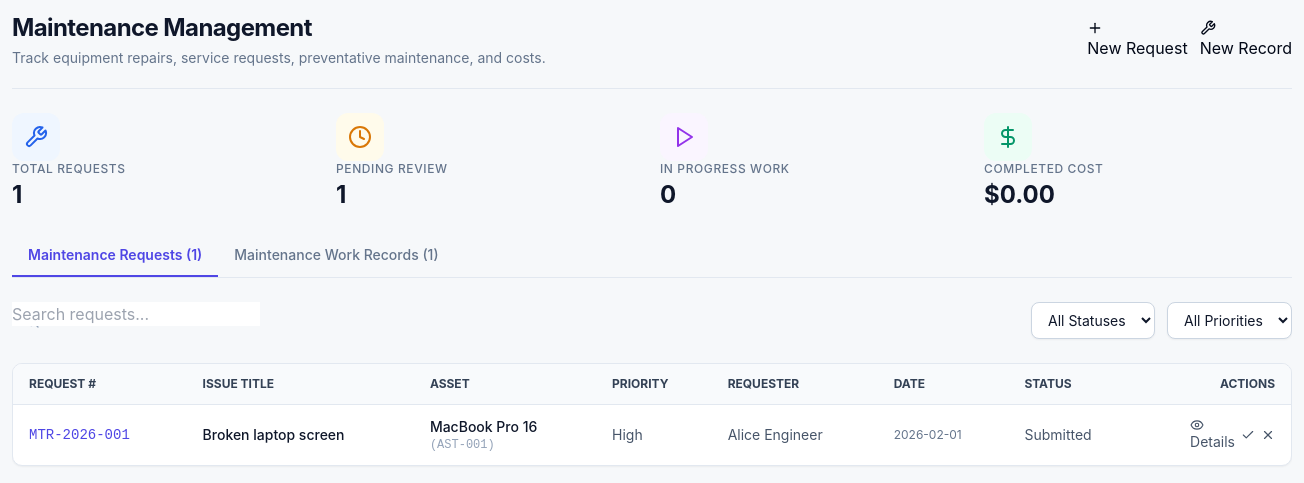
Test: MaintenancePage Component › switches to records tab and displays scheduled maintenance record
Click the button "Maintenance Work Records (1)".
click(336, 256)  # box [218,235,454,277]
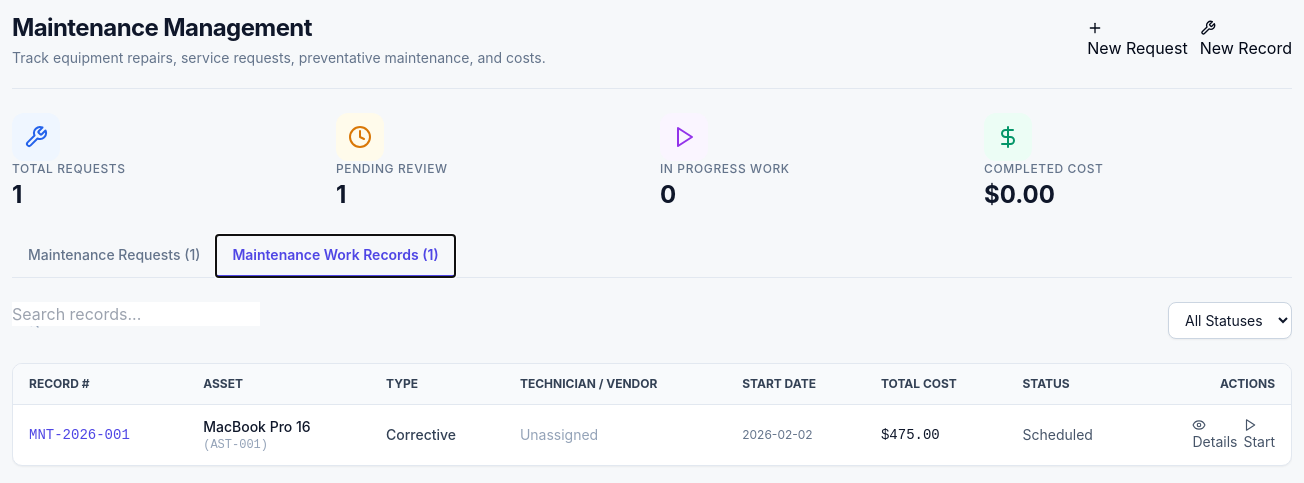
expect the link "MNT-2026-001" is shown: met, box [29,427,130,443]
expect the text "$475.00" is shown: met, box [865,404,1006,465]
